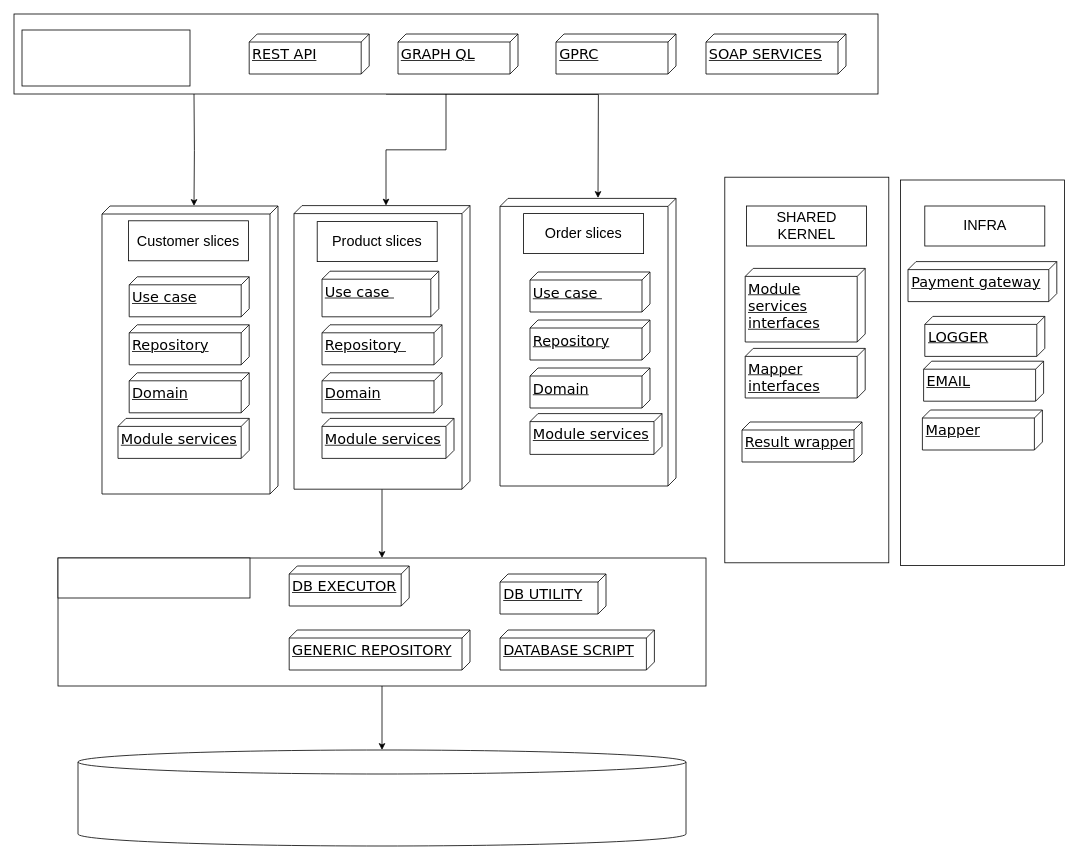
Image size: 1078x860. Some labels were removed from this diagram. Each missing label, with the box of its shape:
DAPPER PERSISTANCE: (57, 557, 250, 598)
DATABASE: (77, 749, 686, 846)
PRESENTATION LAYER: (21, 29, 190, 86)
